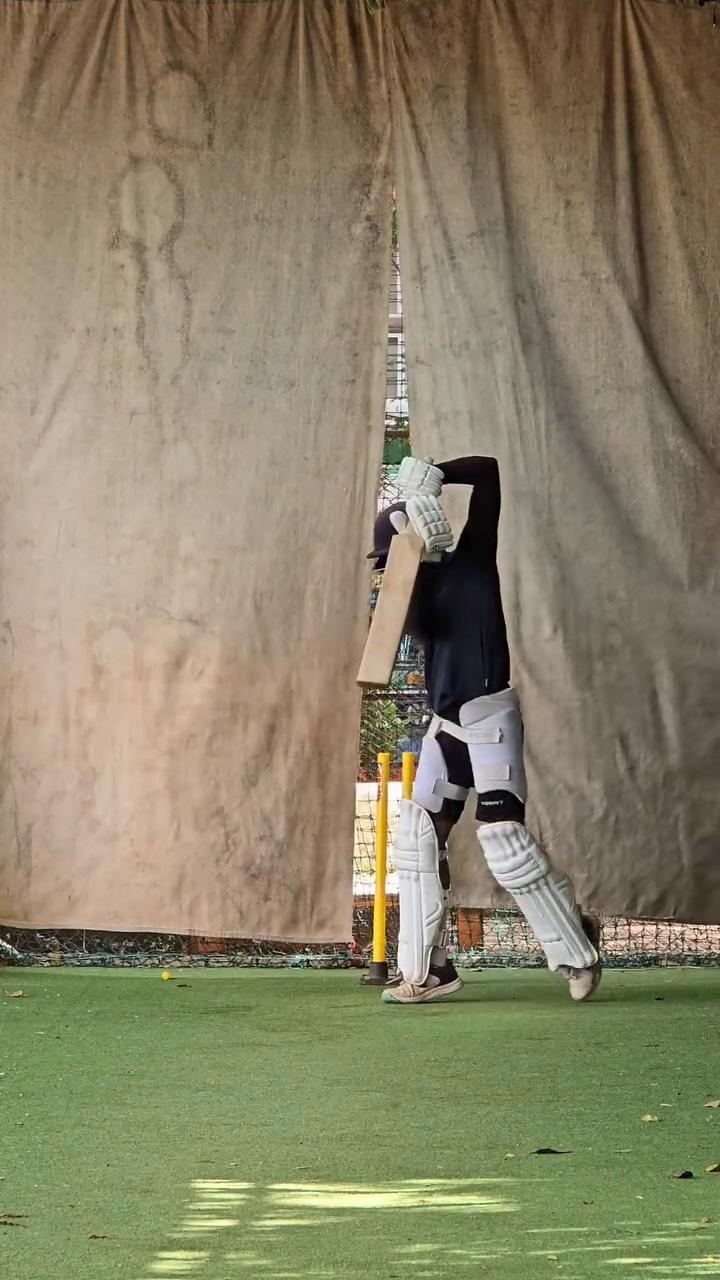bat: (354, 531, 426, 695)
